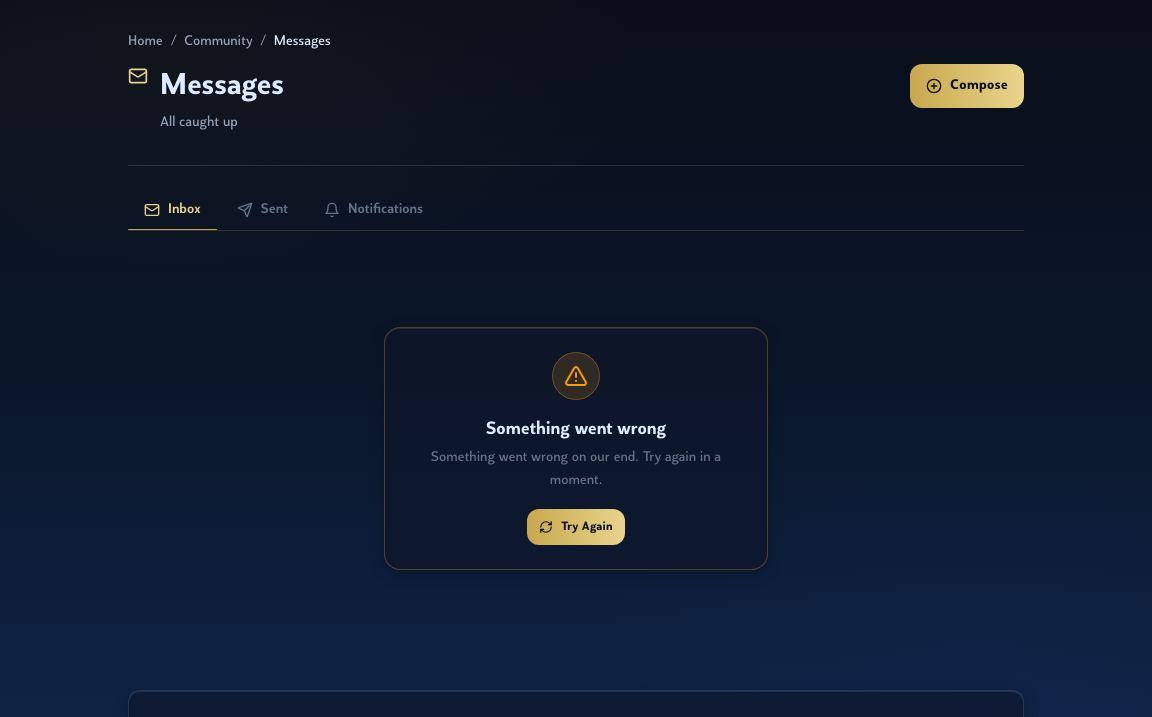
it: MessagesPage — inbox four-state (Equoria-l22ki) › retry re-fetches and renders rows (refetch is wired to the error retry)
Step 1. Click the button "Try Again" → (576, 526), box x1=527 y1=508 x2=625 y2=544
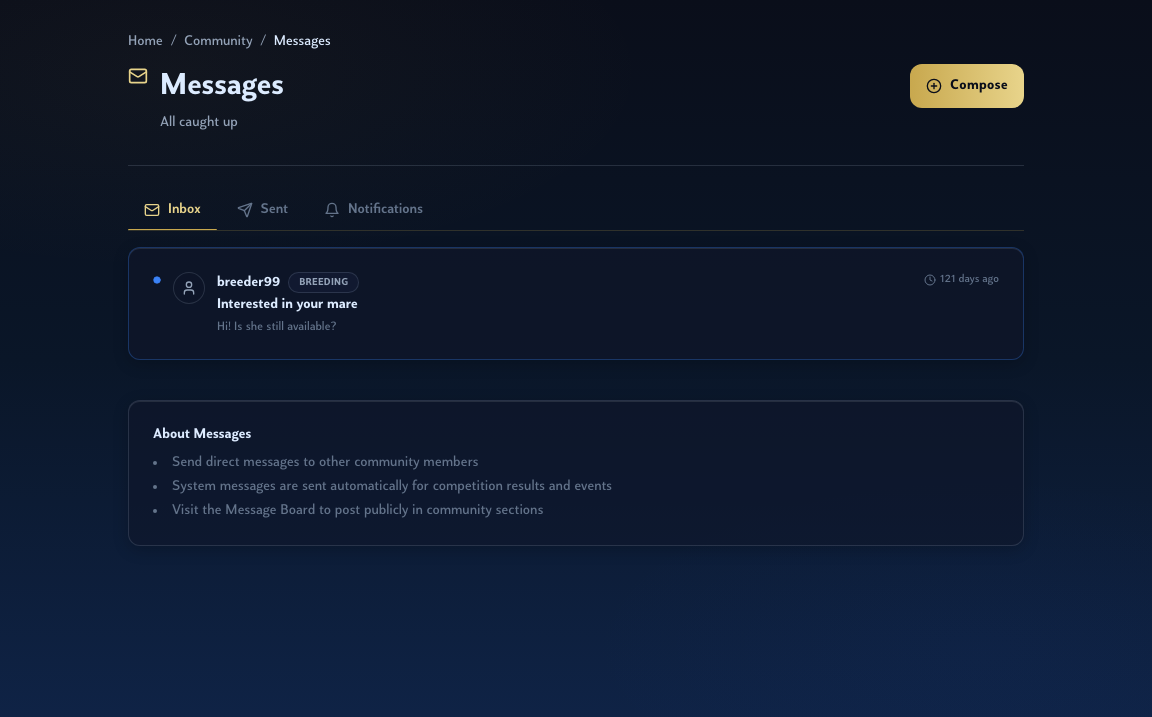
expect the text "Interested in your mare" is shown: met, box x1=217 y1=297 x2=358 y2=312
